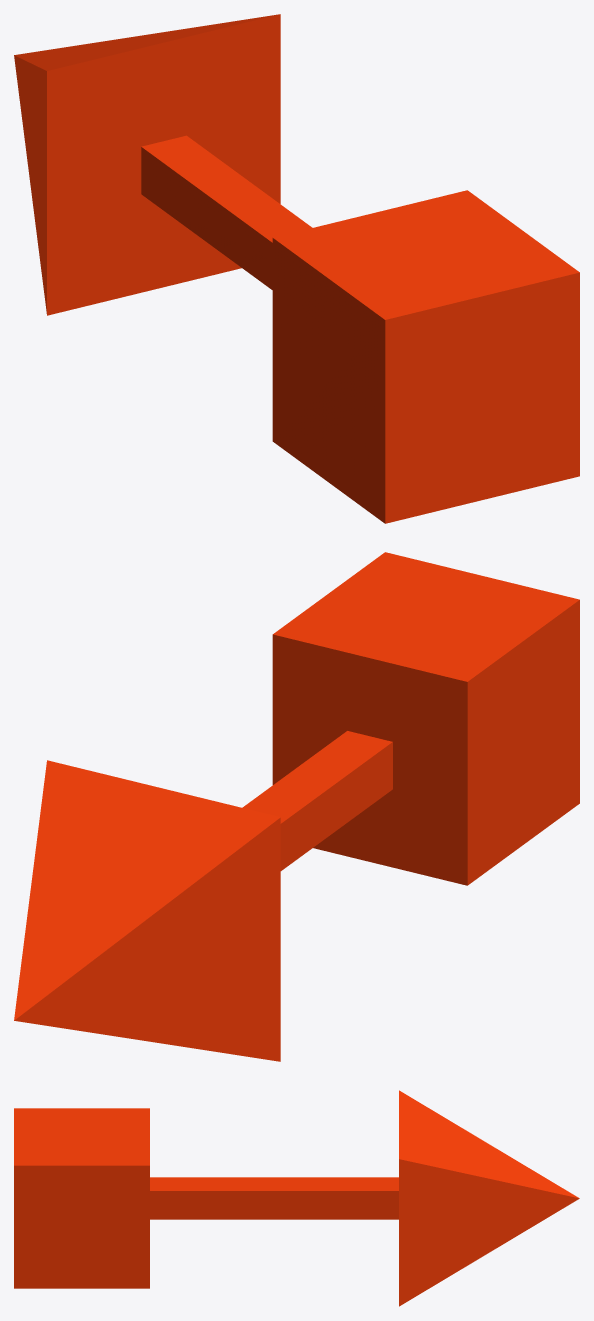
The model's file is placeholder.obj.
3 renders of one model, top to bottom at view 1: azimuth 30°, elevation 25°; view 2: azimuth 150°, elevation 25°; view 3: azimuth 270°, elevation 25°, orthographic. The views are drawn at different scales.
Parts seen in each view (by area): view 1: Placeholder_|_Box_and_arrow; view 2: Placeholder_|_Box_and_arrow; view 3: Placeholder_|_Box_and_arrow.
Boxes of the visible parts, left/top/right/bottom form: Placeholder_|_Box_and_arrow: left=14, top=14, right=579, bottom=523; Placeholder_|_Box_and_arrow: left=14, top=552, right=579, bottom=1061; Placeholder_|_Box_and_arrow: left=14, top=1090, right=579, bottom=1306.
Size of the model in its own units: 0.36 by 0.36 by 1.25.
